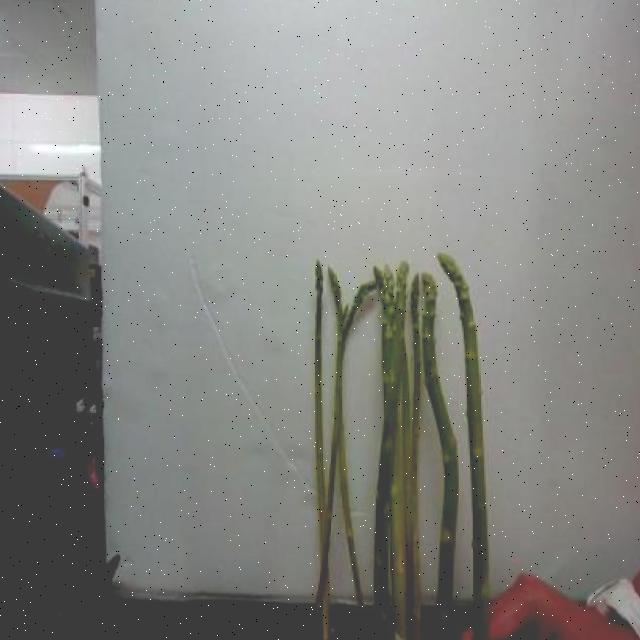aspargus: (439, 255, 491, 604), (420, 269, 464, 635)
